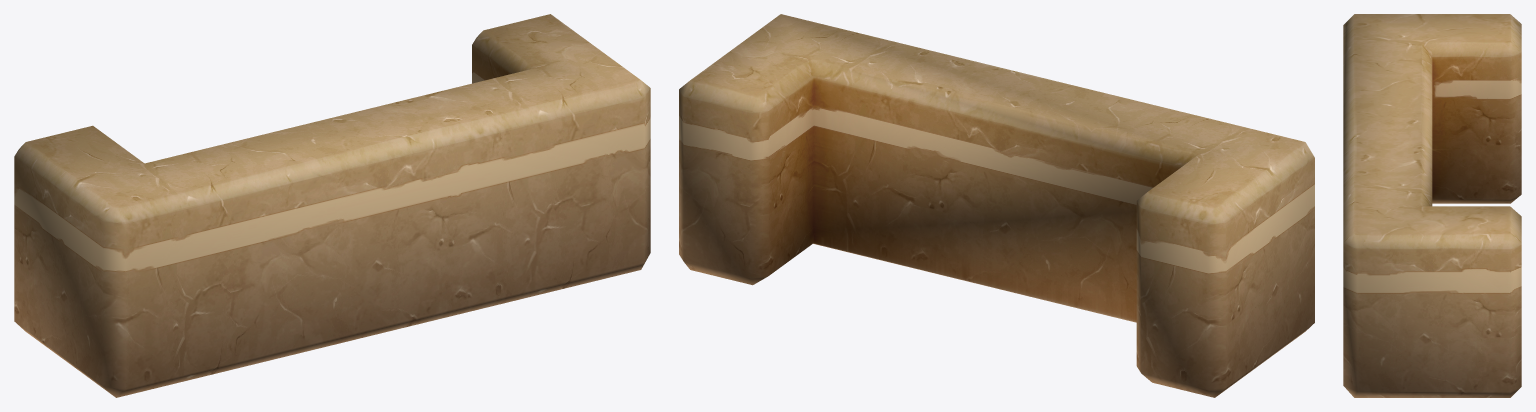
File: DE_House_Mod_Part_46.fbx
3 views of the same model, side by side, from view 1: azimuth 30°, elevation 25°; view 2: azimuth 150°, elevation 25°; view 3: azimuth 270°, elevation 25° (orthographic). The views are drawn at different scales.
Visible parts, largest first — view 1: DE_House_Mod_Part_46; view 2: DE_House_Mod_Part_46; view 3: DE_House_Mod_Part_46.
Boxes of the visible parts, box(x1,y1,x2,y2) form: DE_House_Mod_Part_46: box(14, 14, 650, 397); DE_House_Mod_Part_46: box(679, 14, 1314, 397); DE_House_Mod_Part_46: box(1343, 14, 1521, 397).
Size of the model in its own units: 4.12 by 1.37 by 1.35.
